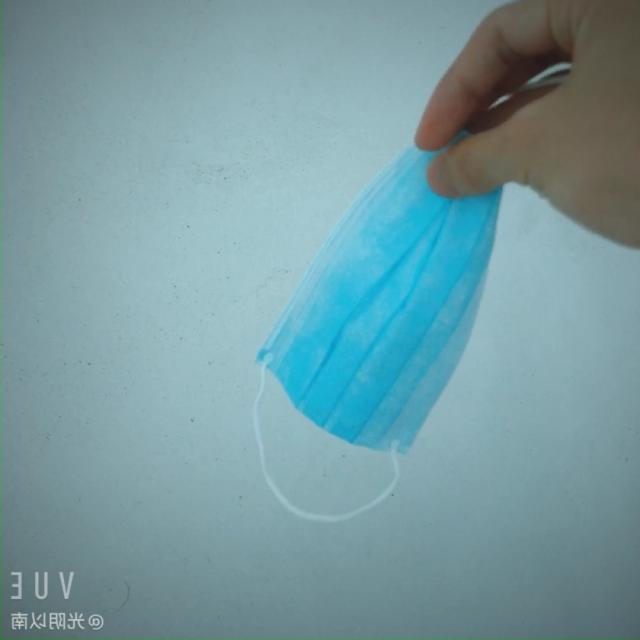face mask: (265, 124, 529, 493)
